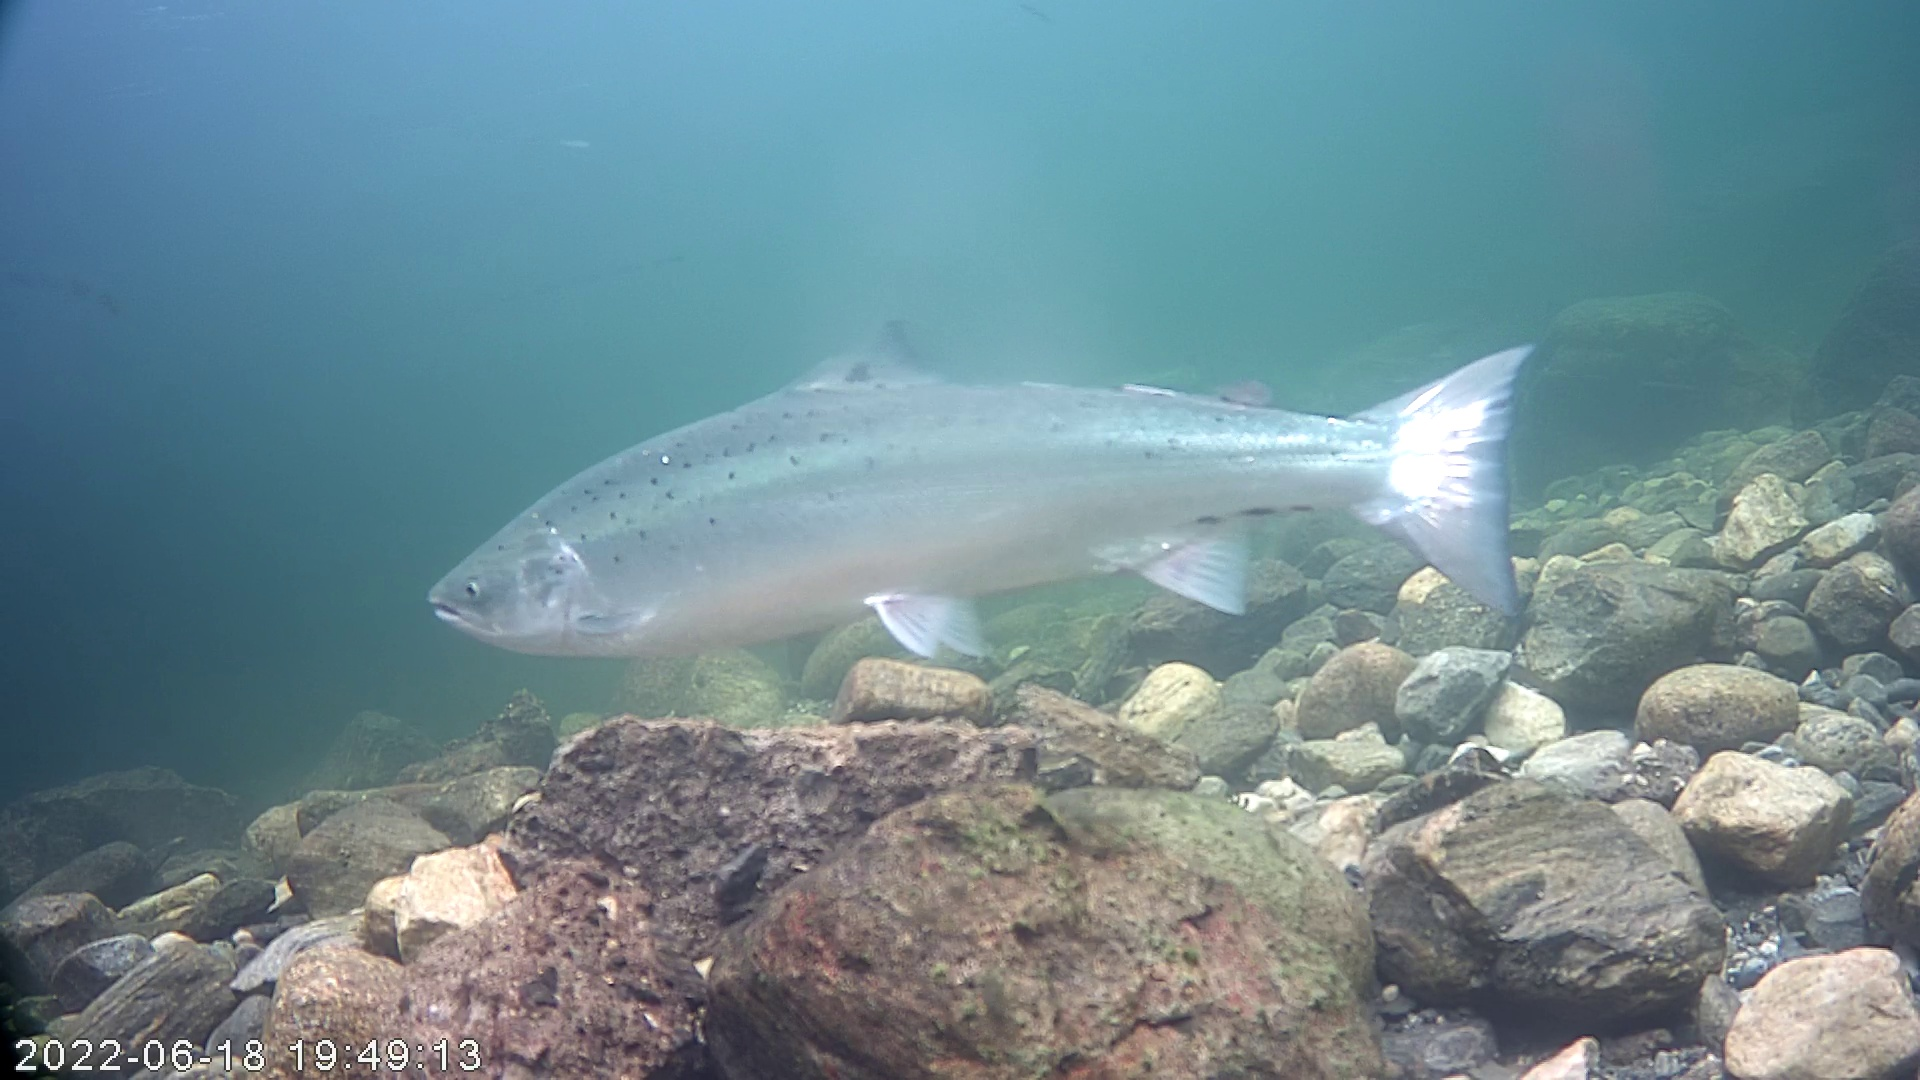salmon: (425, 316, 1536, 659)
